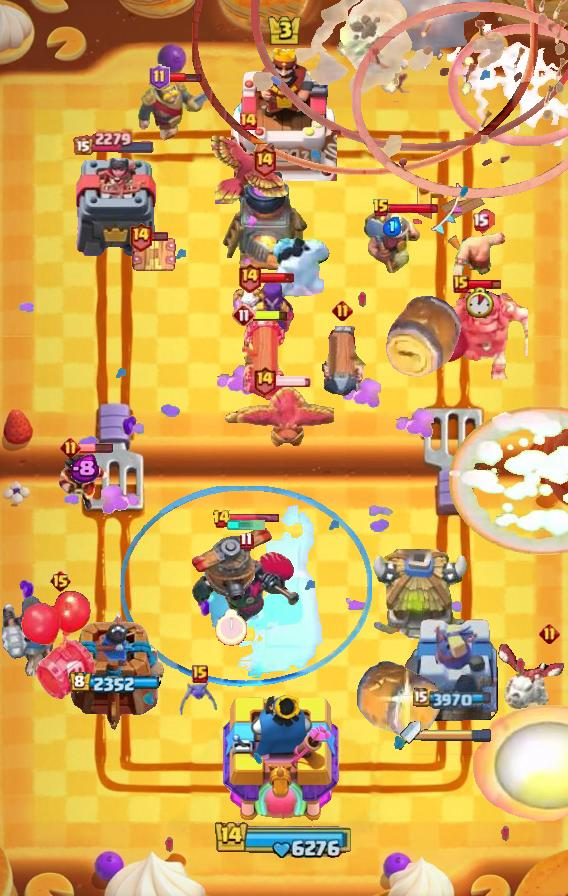archer: (453, 225, 507, 275)
axe: (233, 277, 297, 347)
bandit: (361, 206, 423, 280)
bar: (405, 611, 501, 731)
barbarian: (178, 679, 222, 719)
barbarian-evolution: (448, 24, 568, 146)
battle-healer: (235, 320, 289, 402), (318, 326, 366, 402)
clock: (214, 819, 354, 859)
dark-prince: (182, 519, 280, 601)
dirt: (383, 293, 465, 379), (355, 660, 443, 740)
electro-giant: (421, 286, 527, 379)
electro-spirit: (69, 454, 99, 484), (383, 217, 402, 237)
elixir: (215, 609, 247, 647), (466, 287, 494, 318)
emote: (388, 202, 439, 215), (228, 512, 280, 524), (253, 310, 289, 323), (274, 375, 312, 387), (467, 277, 502, 290), (259, 272, 295, 284), (78, 442, 114, 454), (167, 73, 203, 84), (150, 231, 170, 242)
firecracker: (137, 79, 211, 141)
goblin-brawler: (130, 233, 178, 277)
golden-knight: (207, 132, 289, 204)
hunter: (219, 166, 309, 274)
ice-spirit: (226, 520, 266, 530)
inferno-dragon: (0, 595, 62, 685)
inferno-tower: (190, 543, 302, 631)
king-tower: (223, 689, 345, 826), (231, 45, 337, 181)
king-tower-bar: (421, 728, 493, 742)
lumberjack: (56, 453, 112, 511)
mini-pekka: (496, 640, 568, 718)
mother-witch: (222, 385, 334, 453)
pad_0: (119, 486, 373, 688)
phoenix-big: (448, 405, 567, 554)
prince: (368, 549, 470, 645)
queen-tower: (62, 613, 166, 731), (68, 158, 159, 256)
rage: (269, 236, 333, 304)
royal-ghost: (192, 0, 538, 176), (252, 0, 568, 151)
royal-recruit-evolution: (20, 589, 100, 703)
selected: (68, 672, 159, 696), (72, 129, 155, 154), (414, 687, 495, 709)
skeleton-barrel: (352, 0, 568, 200)
text: (252, 147, 277, 178), (128, 221, 153, 252), (238, 263, 263, 294), (252, 364, 277, 395), (232, 303, 256, 327), (49, 569, 72, 593), (149, 64, 170, 90), (332, 299, 353, 321), (59, 437, 80, 459), (540, 623, 561, 644), (238, 111, 258, 131), (212, 509, 232, 529), (372, 198, 390, 218), (471, 213, 488, 231), (453, 275, 469, 293), (192, 665, 208, 683), (239, 531, 254, 550)
valkyrie: (472, 702, 568, 824)
